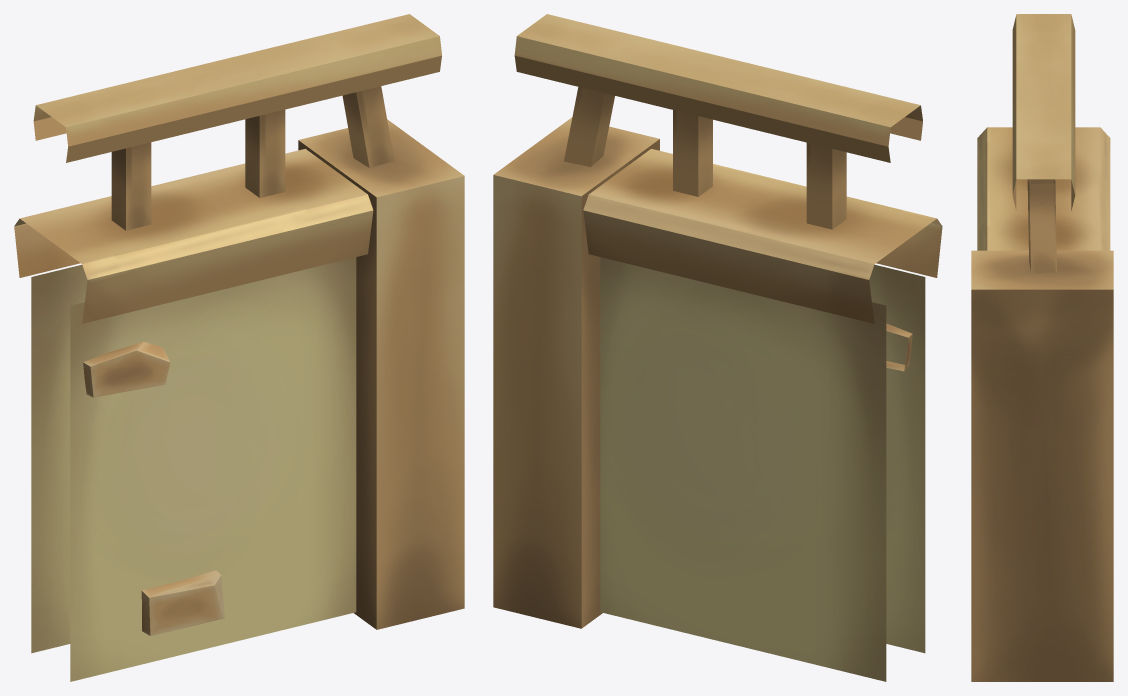
File: Gincana_Wall_03_1.fbx
3 renders of one model, left to right at view 1: azimuth 30°, elevation 25°; view 2: azimuth 150°, elevation 25°; view 3: azimuth 270°, elevation 25°, orthographic. The views are drawn at different scales.
Visible parts, largest first — view 1: Gincana_Wall_03.1; view 2: Gincana_Wall_03.1; view 3: Gincana_Wall_03.1.
Boxes of the visible parts, left/top/right/bottom form: Gincana_Wall_03.1: left=14, top=14, right=464, bottom=681; Gincana_Wall_03.1: left=493, top=14, right=942, bottom=681; Gincana_Wall_03.1: left=971, top=14, right=1113, bottom=681.
Size of the model in its own units: 520 by 736 by 189.
Materials: 1 (1 with a texture image).
